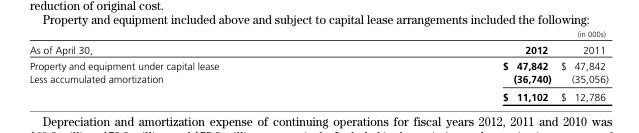table: (28, 29, 607, 102)
table column: (28, 29, 360, 102), (360, 29, 555, 102), (555, 29, 607, 102)
table column header: (28, 29, 607, 57)
table row: (28, 29, 607, 57), (28, 57, 607, 72), (28, 72, 607, 87), (28, 87, 607, 102)
